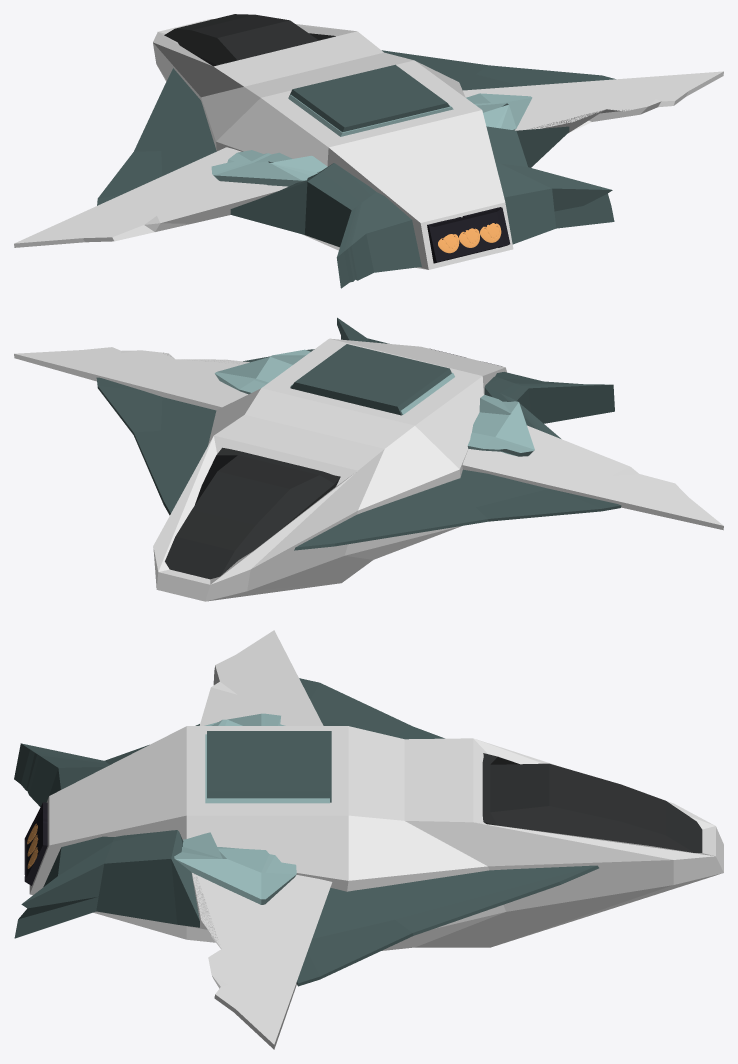
Rendered from THE spaceship (3).fbx.
3 renders of one model, top to bottom at view 1: azimuth 30°, elevation 25°; view 2: azimuth 150°, elevation 25°; view 3: azimuth 270°, elevation 25°, orthographic. The views are drawn at different scales.
Visible parts, largest first — view 1: Main Frame, Side frame 1, Wing 2, Side frame 2, Wing 1, Super wing 2, Roof 2, Window, Super wing, Wing cover 1, Engine Frame, Wing cover 2 (+1 smaller); view 2: Main Frame, Window, Super wing 2, Wing 2, Super wing, Wing 1, Roof 2, Side frame 1, Wing cover 1, Wing cover 2, Side frame 2; view 3: Main Frame, Wing 1, Super wing, Window, Side frame 2, Roof 2, Wing 2, Wing cover 2, Side frame 1, Super wing 2, Engine Frame, Roof 1.
Part boxes in pixels (bbox=[...]): Main Frame: bbox=[153, 19, 513, 269]; Side frame 1: bbox=[230, 163, 421, 288]; Wing 2: bbox=[14, 147, 287, 247]; Side frame 2: bbox=[486, 126, 614, 244]; Wing 1: bbox=[463, 71, 723, 133]; Super wing 2: bbox=[97, 68, 216, 205]; Roof 2: bbox=[288, 64, 449, 132]; Window: bbox=[164, 14, 335, 66]; Super wing: bbox=[382, 50, 615, 90]; Wing cover 1: bbox=[211, 150, 327, 186]; Engine Frame: bbox=[427, 207, 510, 263]; Wing cover 2: bbox=[466, 93, 532, 130]; Main Frame: bbox=[153, 338, 506, 601]; Window: bbox=[165, 447, 340, 579]; Super wing 2: bbox=[294, 469, 621, 550]; Wing 2: bbox=[462, 425, 723, 530]; Super wing: bbox=[96, 377, 216, 515]; Wing 1: bbox=[14, 347, 249, 410]; Roof 2: bbox=[290, 344, 451, 415]; Side frame 1: bbox=[484, 372, 614, 438]; Wing cover 1: bbox=[467, 394, 534, 456]; Wing cover 2: bbox=[214, 349, 310, 394]; Side frame 2: bbox=[243, 317, 389, 362]; Main Frame: bbox=[29, 726, 723, 950]; Wing 1: bbox=[191, 872, 332, 1049]; Super wing: bbox=[296, 865, 598, 986]; Window: bbox=[482, 753, 702, 852]; Side frame 2: bbox=[14, 830, 199, 938]; Roof 2: bbox=[207, 731, 331, 802]; Wing 2: bbox=[199, 630, 323, 725]; Wing cover 2: bbox=[174, 832, 296, 904]; Side frame 1: bbox=[14, 724, 199, 806]; Super wing 2: bbox=[299, 678, 444, 739]; Engine Frame: bbox=[24, 802, 47, 885]; Roof 1: bbox=[205, 734, 329, 803].
Size of the model in its own units: 1085 by 183 by 787.
